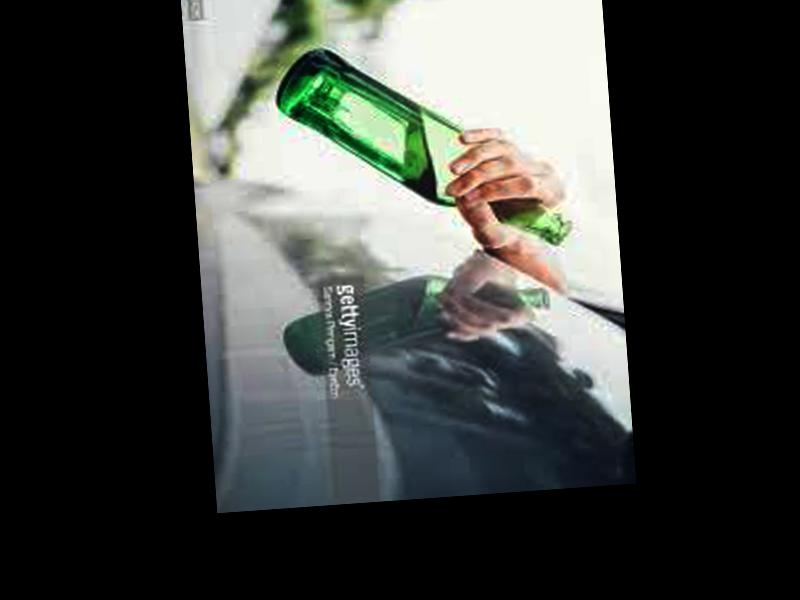Beer: (271, 34, 570, 267)
